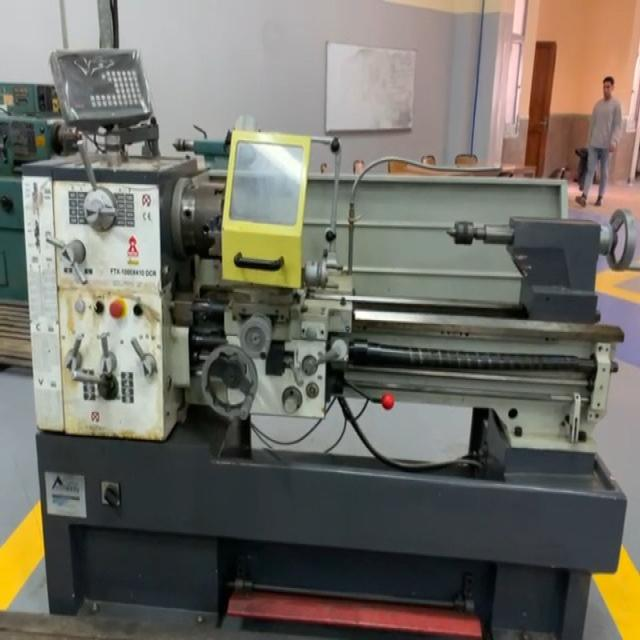tour parallele: (22, 48, 640, 640)
